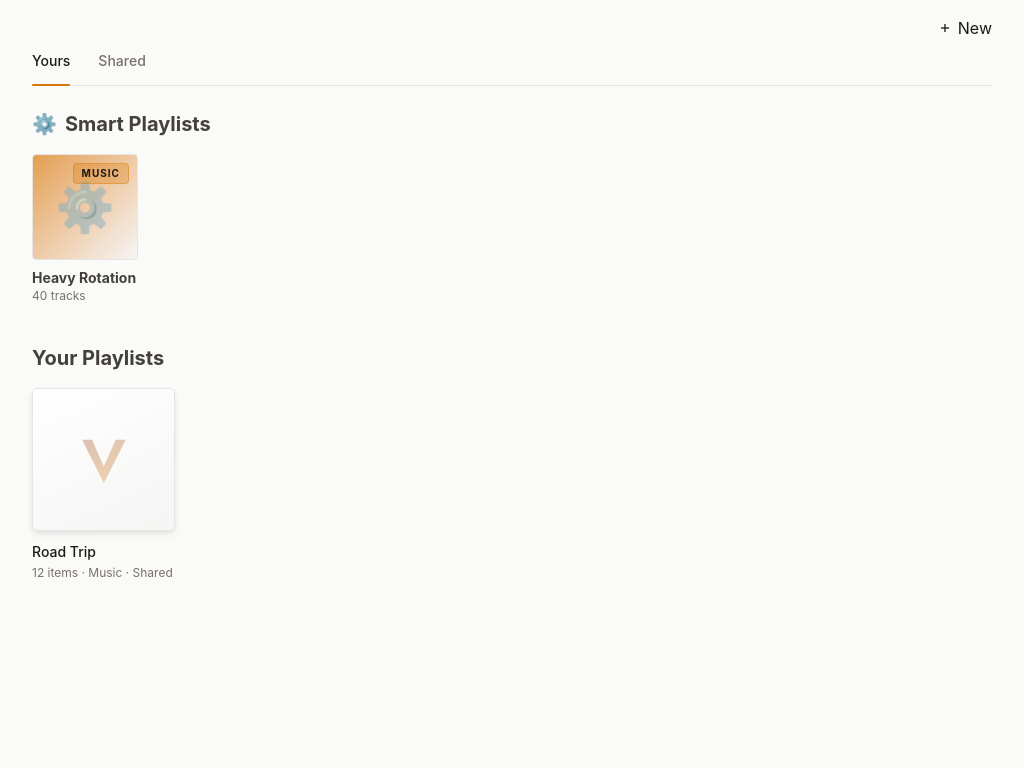
Test: PlaylistsPage › says so when nothing has been shared
Expected: the text "Road Trip" is shown, [32, 543, 96, 560]
Step 1. Click the tab "Shared" → (122, 63), box [98, 41, 146, 85]
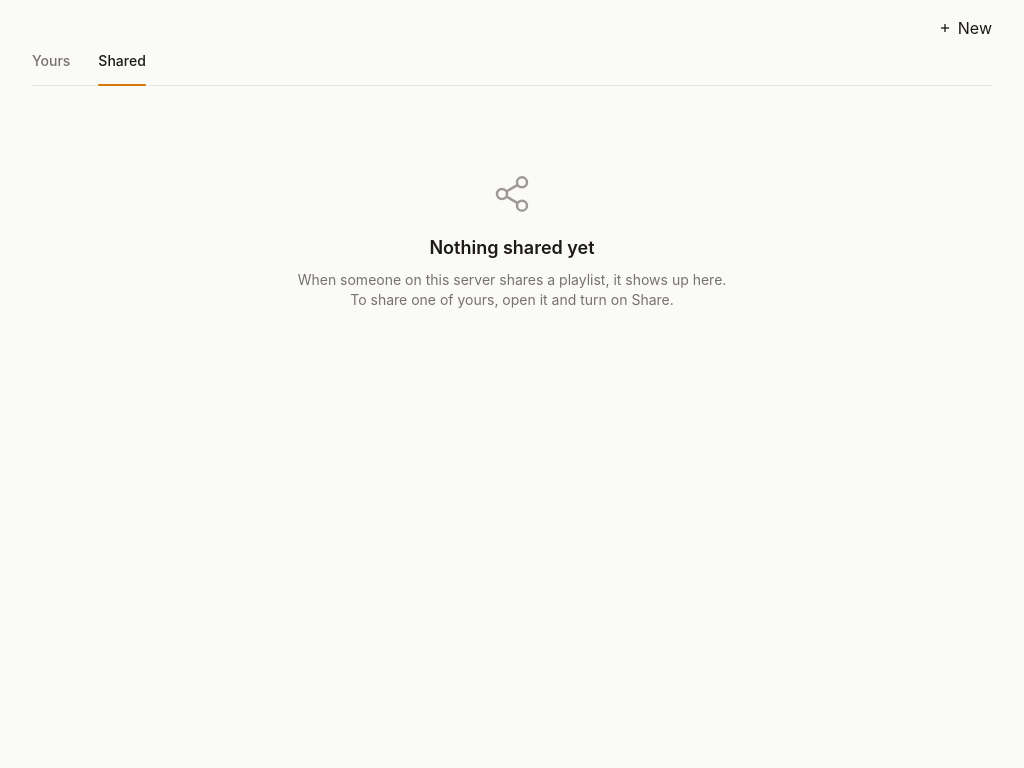
Now the heading "Nothing shared yet" is shown, box [429, 234, 595, 262]
